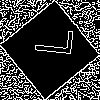L: (25, 25, 74, 57)
